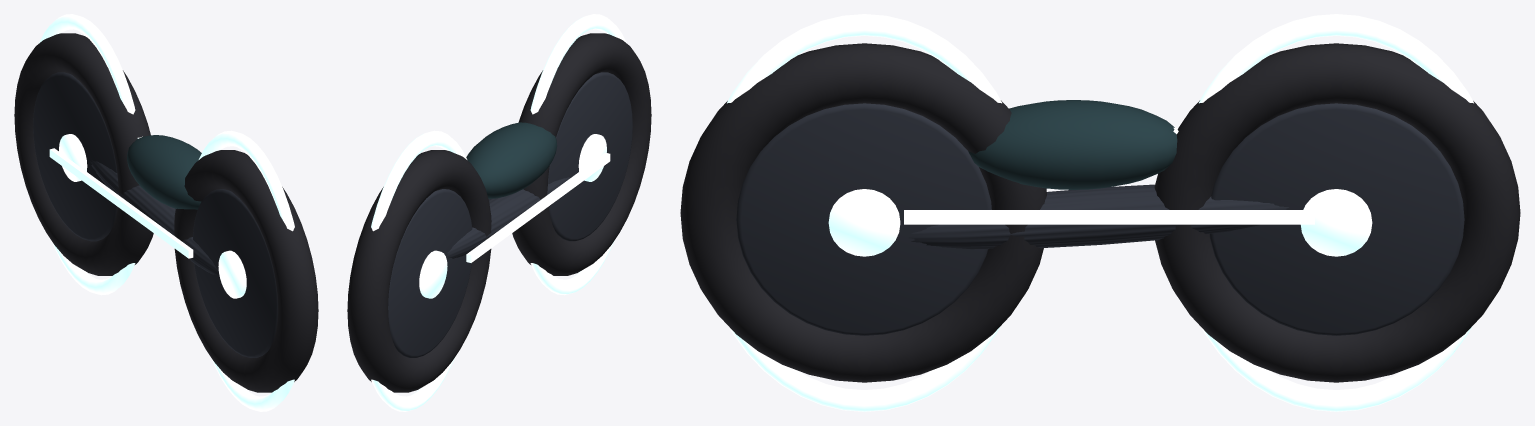
File: cycle.glb
The picture shows the model from 3 angles, left to right: view 1: azimuth 30°, elevation 25°; view 2: azimuth 150°, elevation 25°; view 3: azimuth 270°, elevation 25°; orthographic projection. The views are drawn at different scales.
Parts seen in each view (by area): view 1: tire_front, tire_rear, disc_front, disc_rear, canopy, glow_ring_rear, glow_ring_front, hull, strip_L, hub_front, hub_rear; view 2: tire_rear, tire_front, disc_rear, disc_front, canopy, glow_ring_front, glow_ring_rear, hull, strip_L, hub_rear, hub_front; view 3: tire_rear, tire_front, disc_rear, disc_front, canopy, glow_ring_front, glow_ring_rear, hull, strip_R, hub_front, hub_rear.
Part boxes in pixels (left/top/right/bottom): tire_front: left=174, top=150, right=318, bottom=392; tire_rear: left=14, top=33, right=153, bottom=275; disc_front: left=193, top=189, right=277, bottom=357; disc_rear: left=33, top=72, right=117, bottom=241; canopy: left=127, top=135, right=201, bottom=209; glow_ring_rear: left=39, top=14, right=135, bottom=295; glow_ring_front: left=198, top=130, right=294, bottom=411; hull: left=90, top=160, right=218, bottom=275; strip_L: left=49, top=148, right=193, bottom=258; hub_front: left=218, top=250, right=246, bottom=298; hub_rear: left=59, top=134, right=87, bottom=181; tire_rear: left=347, top=150, right=491, bottom=392; tire_front: left=512, top=33, right=651, bottom=275; disc_rear: left=388, top=189, right=472, bottom=357; disc_front: left=548, top=72, right=632, bottom=241; canopy: left=466, top=122, right=557, bottom=198; glow_ring_front: left=530, top=14, right=626, bottom=295; glow_ring_rear: left=371, top=130, right=467, bottom=411; hull: left=446, top=177, right=570, bottom=258; strip_L: left=466, top=152, right=610, bottom=262; hub_rear: left=419, top=250, right=447, bottom=298; hub_front: left=578, top=134, right=606, bottom=181; tire_rear: left=1154, top=43, right=1520, bottom=382; tire_front: left=680, top=43, right=1046, bottom=382; disc_rear: left=1209, top=103, right=1464, bottom=335; disc_front: left=736, top=103, right=991, bottom=335; canopy: left=968, top=100, right=1177, bottom=189; glow_ring_front: left=727, top=14, right=1001, bottom=411; glow_ring_rear: left=1199, top=14, right=1473, bottom=411; hull: left=908, top=184, right=1288, bottom=249; strip_R: left=904, top=210, right=1314, bottom=224; hub_front: left=828, top=189, right=900, bottom=256; hub_rear: left=1301, top=189, right=1372, bottom=256.
Bounding box in the file's own units: 0.845 × 2.46 × 4.7.
